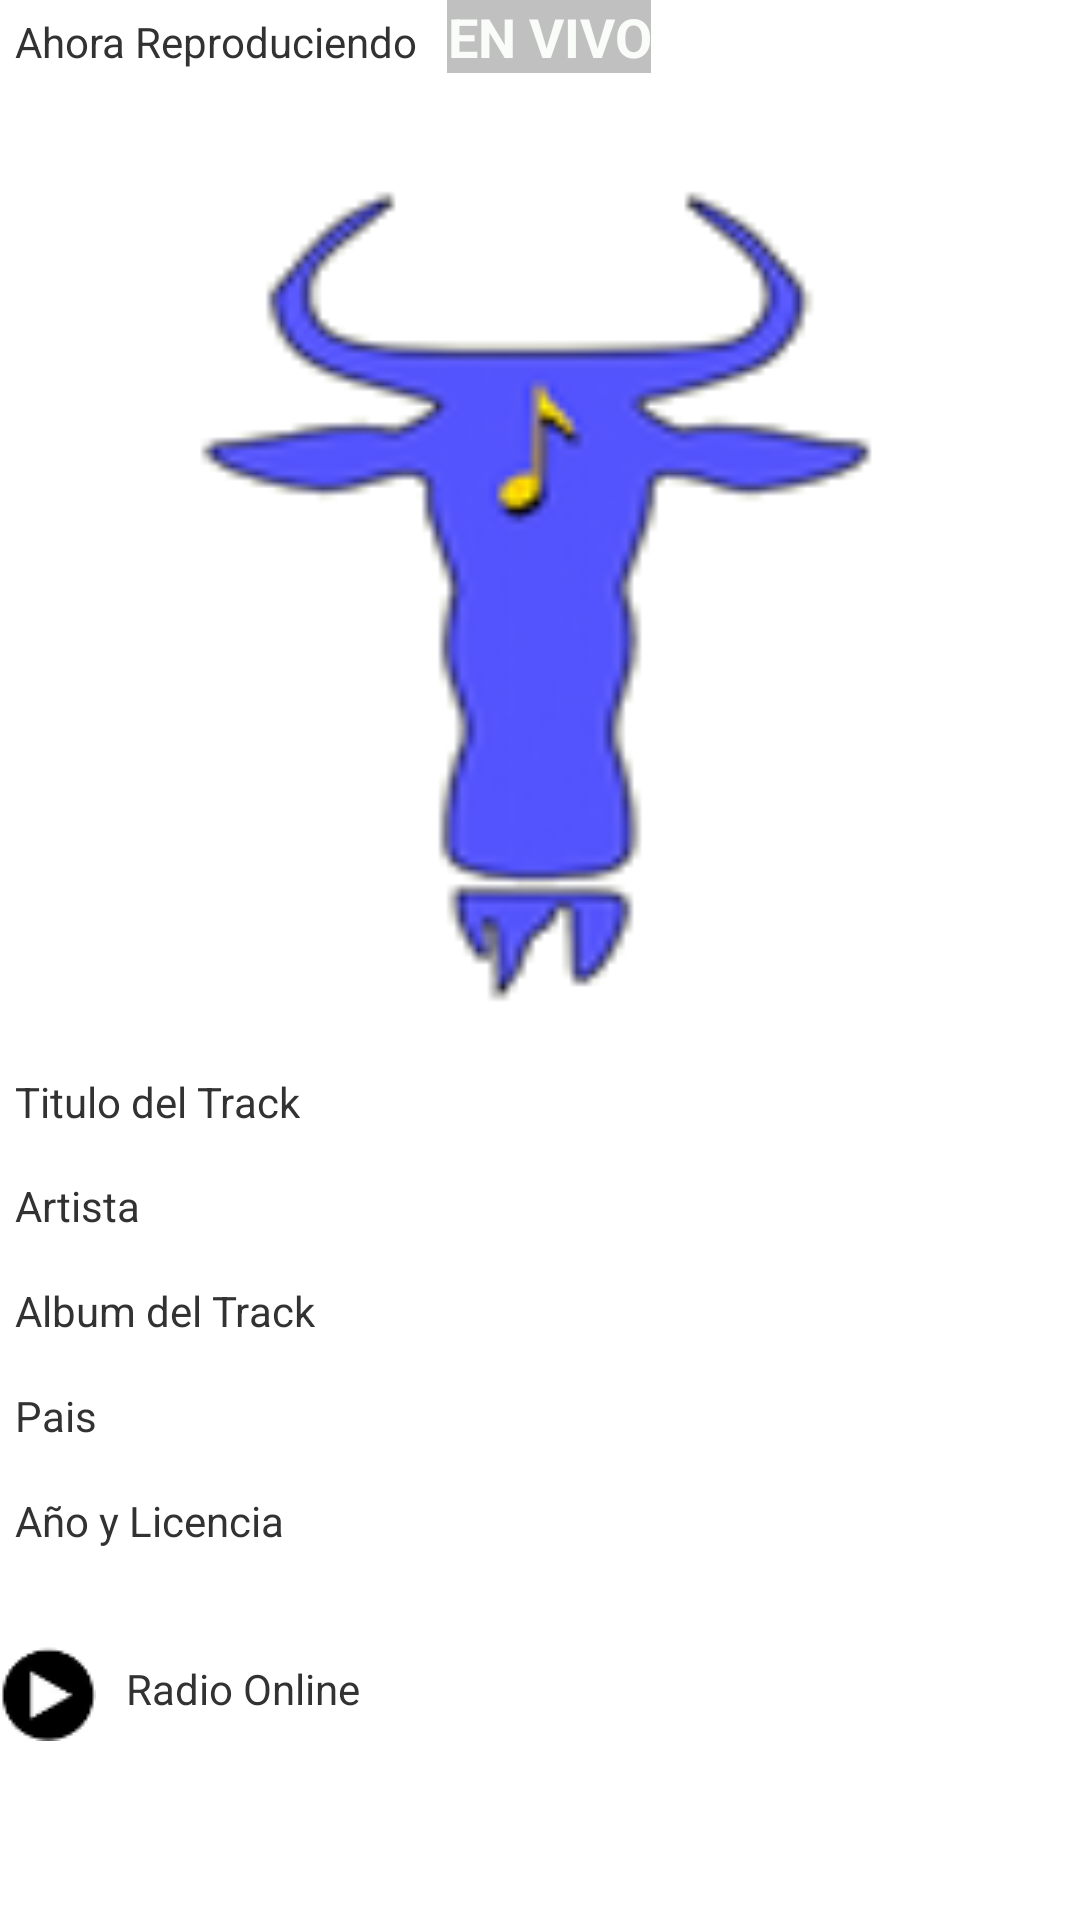

Where icons sit on this 1080x1920 app screen, as box(x1, y1, x2, y2):
Imagen del boton play y stop: box(2, 1648, 96, 1741)
